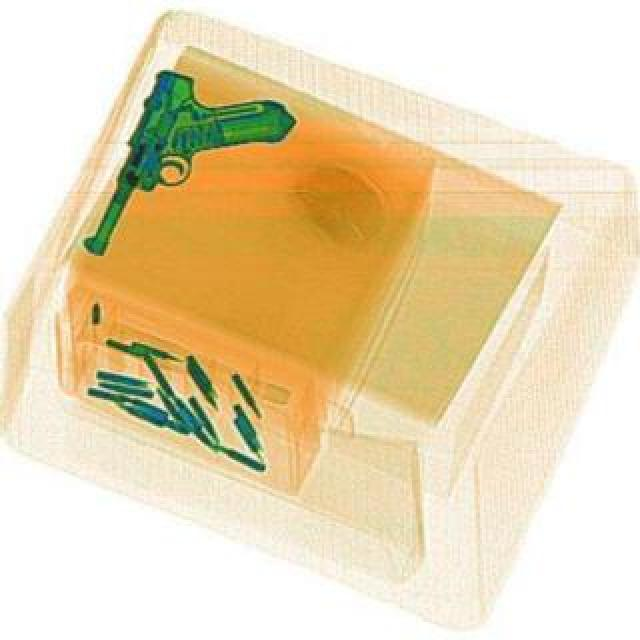gun: (80, 66, 298, 306)
